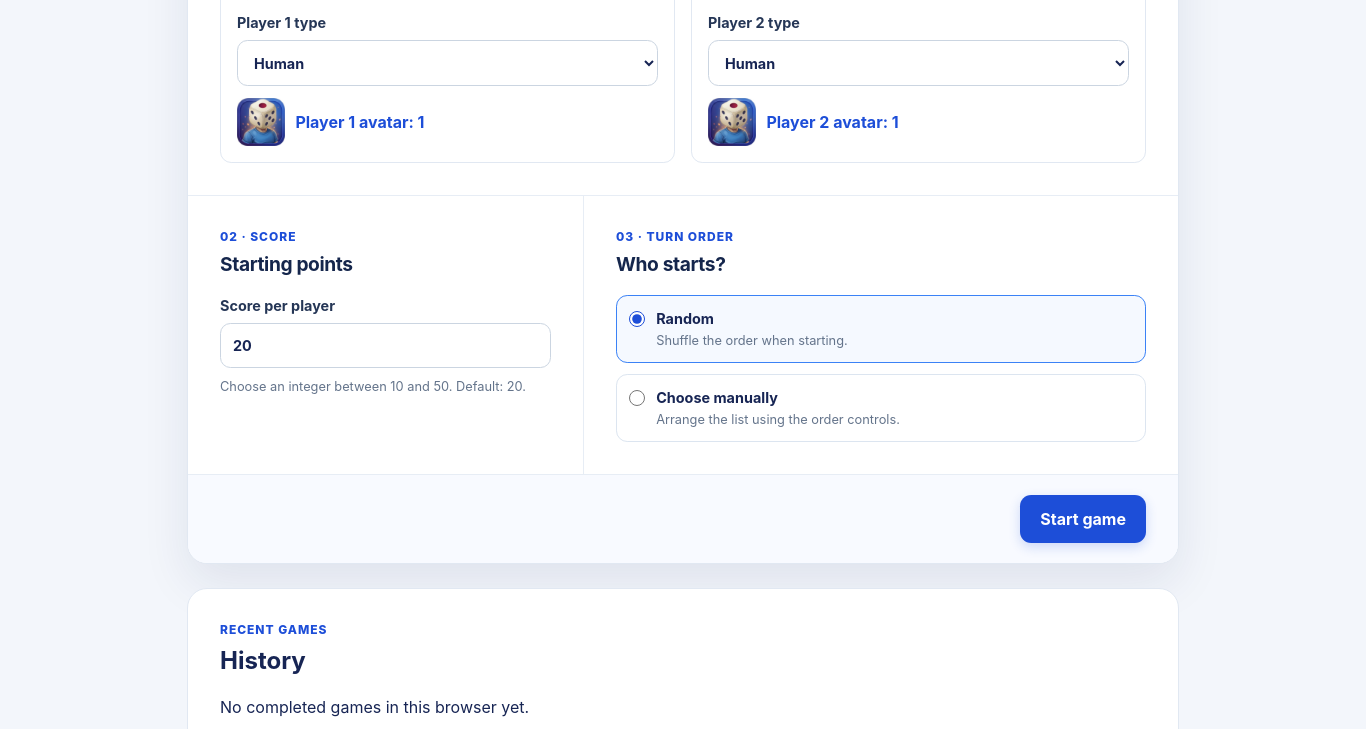
Scenario: App › traduce el error de configuración mientras permanece visible
The width and height of the screenshot is (1366, 729).
(page scrolled)
Replace the text in the number field labelled "Score per player" with "9" at {"x": 386, "y": 346}, box [220,323,551,368]
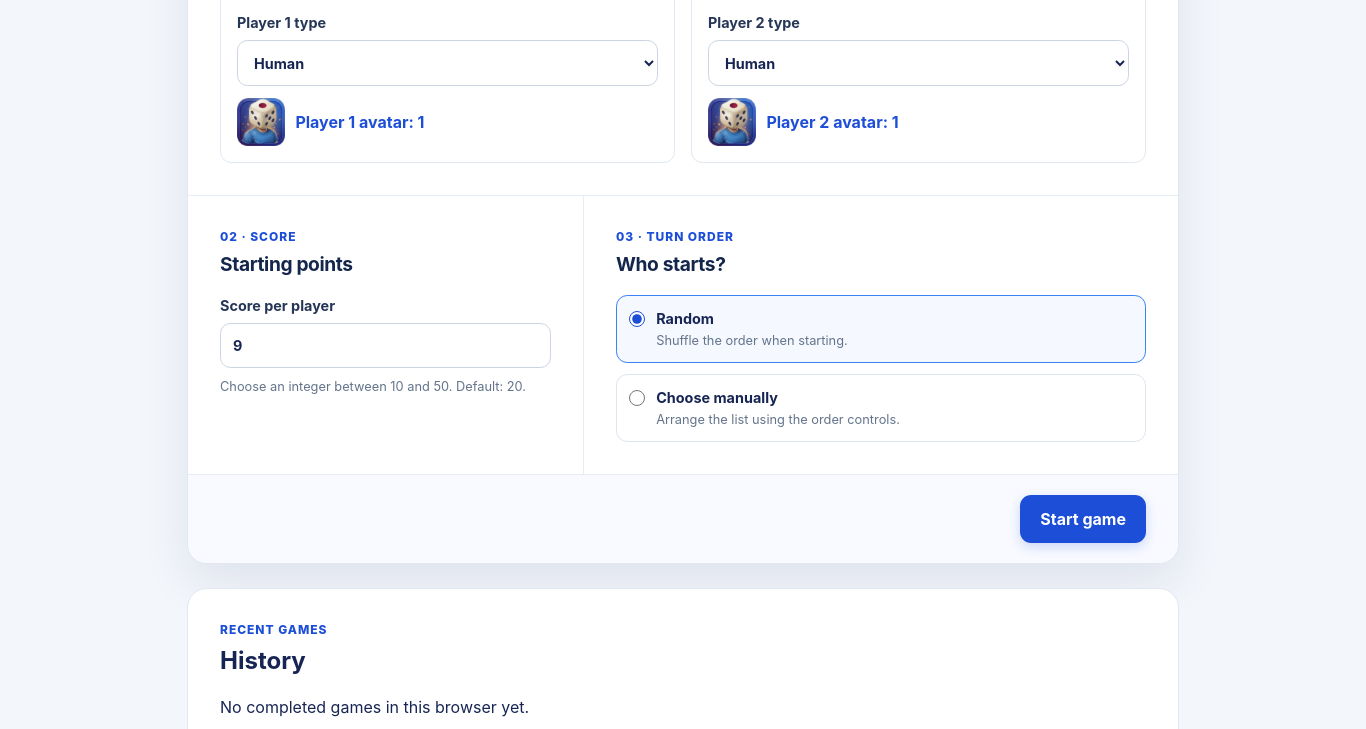
Click the button "Start game" at {"x": 1083, "y": 519}, box [1020,495,1146,543]
(page scrolled)
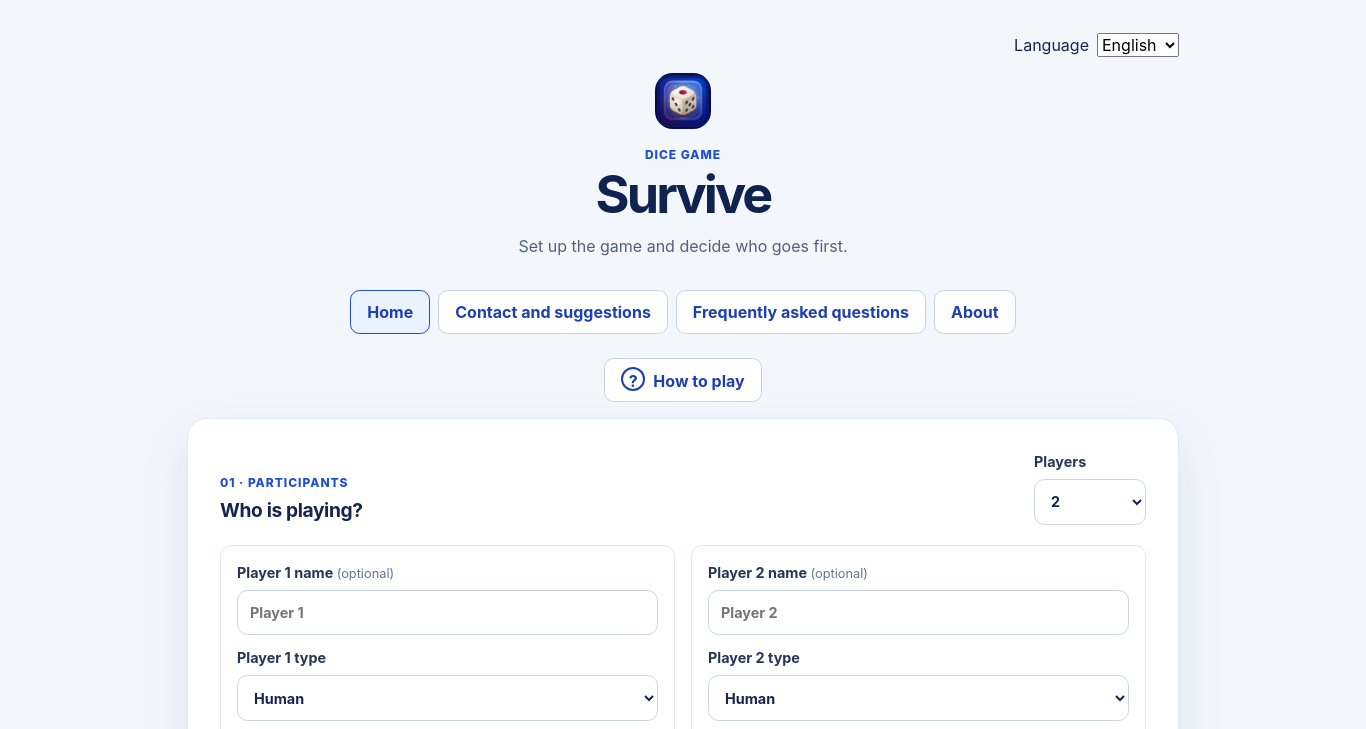
Select "Español" in the dropdown labelled "Language" at {"x": 1138, "y": 45}, box [1097,33,1179,57]
(page scrolled)
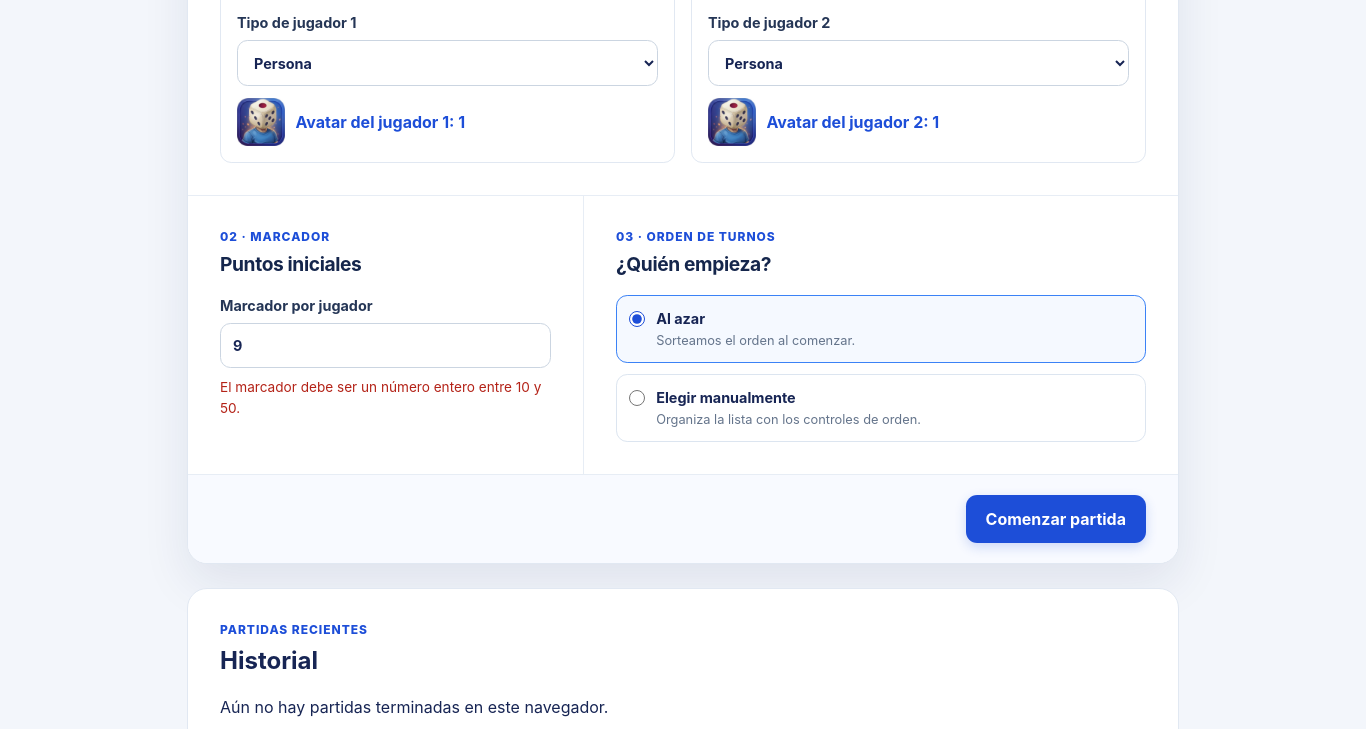
Now the message shows "entero entre 10 y 50", box [220,379,541,416]
